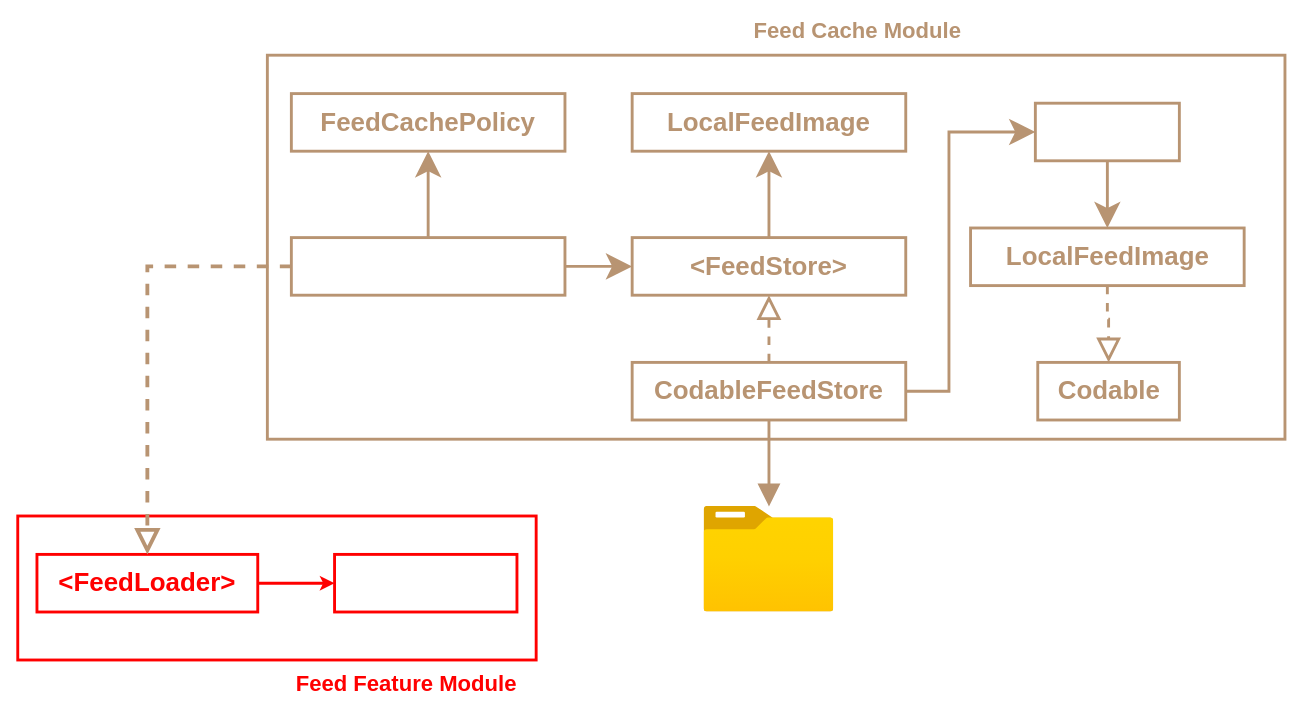
Some shapes in this 1303 by 714 pixel diagram are drawn without their labels. The centre of each missing label's shape, as x and y in pixels:
"<LocalFeedLoader>" belongs at (427,266).
"Cache" belongs at (1106,131).
"Feed Image" belongs at (425,582).
"File System" belongs at (768,559).
